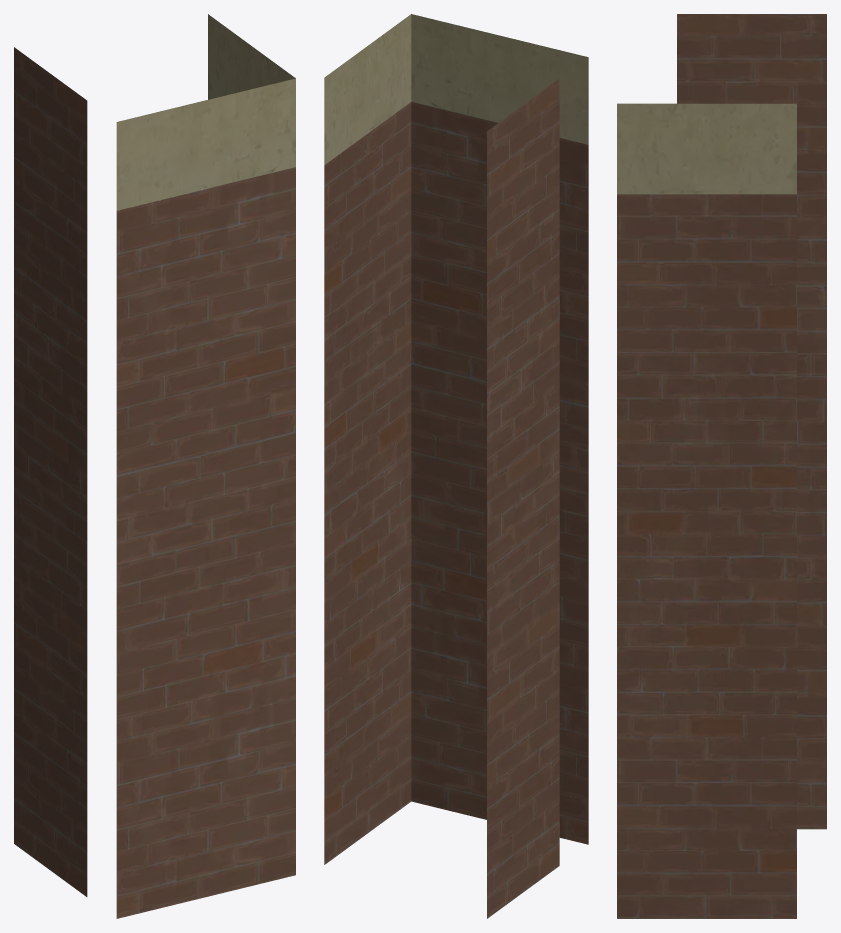
The model's file is Brick_TopTrim_90Angle_L.glb.
3 renders of one model, left to right at view 1: azimuth 30°, elevation 25°; view 2: azimuth 150°, elevation 25°; view 3: azimuth 270°, elevation 25°, orthographic. The views are drawn at different scales.
Visible parts, largest first — view 1: Brick_TopTrim_90Angle_L; view 2: Brick_TopTrim_90Angle_L; view 3: Brick_TopTrim_90Angle_L.
Part boxes in pixels (x1,y1,x2,y2): Brick_TopTrim_90Angle_L: (14,14,295,918); Brick_TopTrim_90Angle_L: (324,14,588,918); Brick_TopTrim_90Angle_L: (617,14,826,918).
Size of the model in its own units: 0.7063 by 3 by 0.7001.
2 materials, 2 textured.
